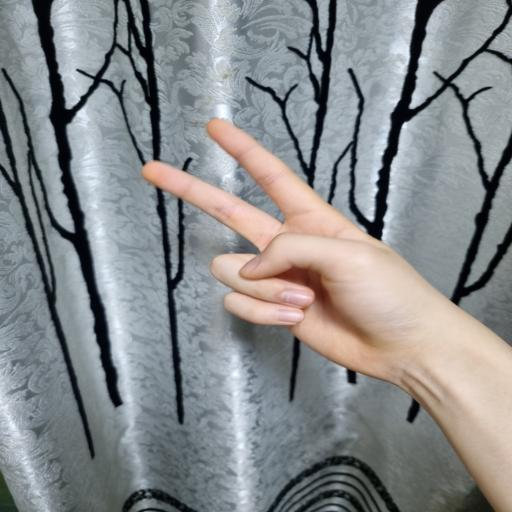Scissors: (142, 118, 512, 512)
